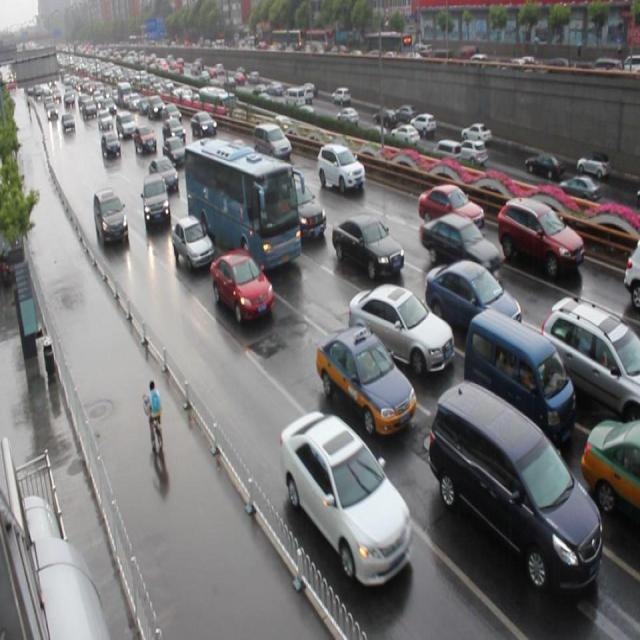car: (279, 407, 412, 586), (537, 296, 640, 427), (316, 324, 414, 436), (347, 282, 454, 376), (424, 257, 521, 338), (495, 194, 583, 279), (577, 418, 640, 528), (420, 211, 502, 275), (210, 247, 274, 324), (332, 210, 404, 277), (418, 180, 483, 238), (281, 180, 327, 240), (316, 140, 366, 194), (169, 213, 215, 270), (141, 171, 172, 232), (623, 229, 640, 314), (148, 155, 180, 193)
truck: (427, 382, 600, 595), (462, 308, 571, 439), (93, 186, 130, 248), (252, 121, 292, 162)
van: (182, 139, 299, 272)
